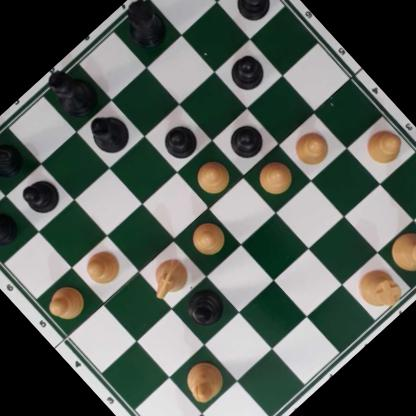black-bishop: (81, 106, 137, 162), (177, 280, 231, 334)
black-king: (38, 57, 105, 125)
black-knight: (0, 127, 27, 188)
black-pawn: (15, 172, 66, 223), (155, 116, 204, 166), (222, 48, 270, 97), (222, 117, 269, 164), (227, 0, 279, 28), (0, 204, 22, 253)
black-rook: (113, 0, 175, 55)
white-bishop: (177, 353, 232, 408)
white-king: (382, 220, 416, 286)
white-knight: (143, 252, 196, 304)
white-pawn: (357, 121, 409, 173), (187, 153, 236, 202), (286, 124, 335, 173), (41, 279, 90, 327), (79, 243, 127, 292), (251, 154, 298, 201), (185, 216, 230, 261)
white-rook: (351, 263, 406, 318)
